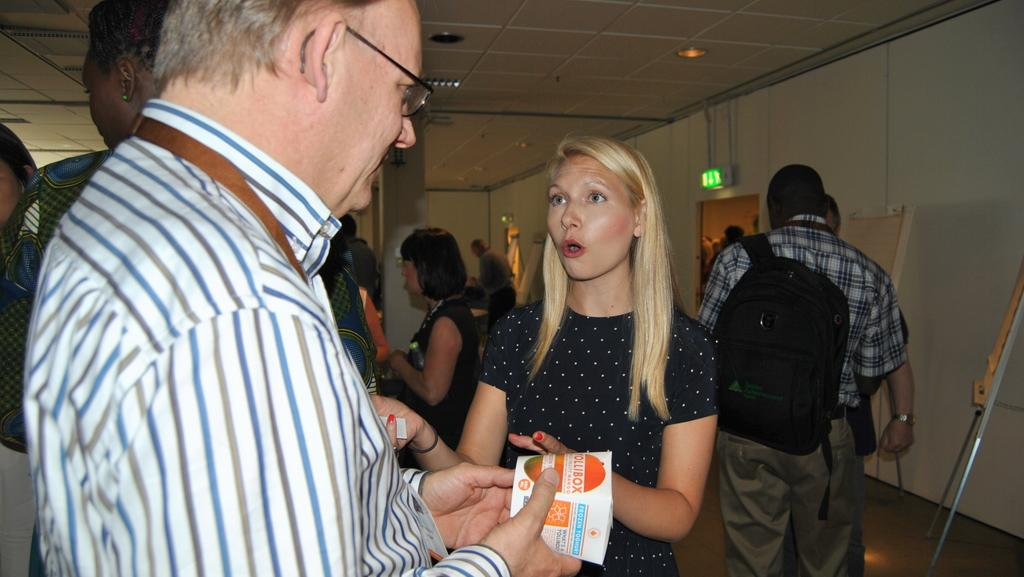Sem Máscara: (324, 0, 411, 209), (545, 150, 631, 279), (80, 38, 125, 148)
